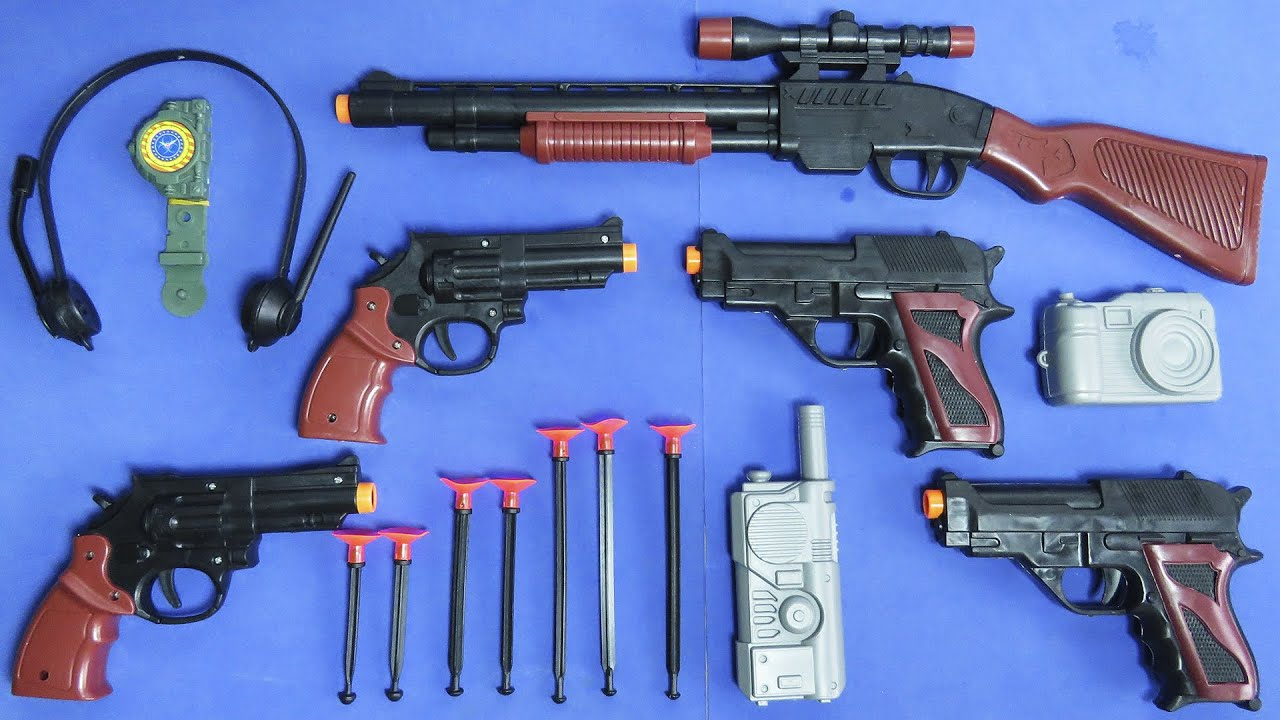Arma Falsa: (331, 11, 1267, 296), (17, 452, 392, 720), (916, 463, 1276, 720), (676, 222, 1030, 460), (298, 215, 644, 446)
